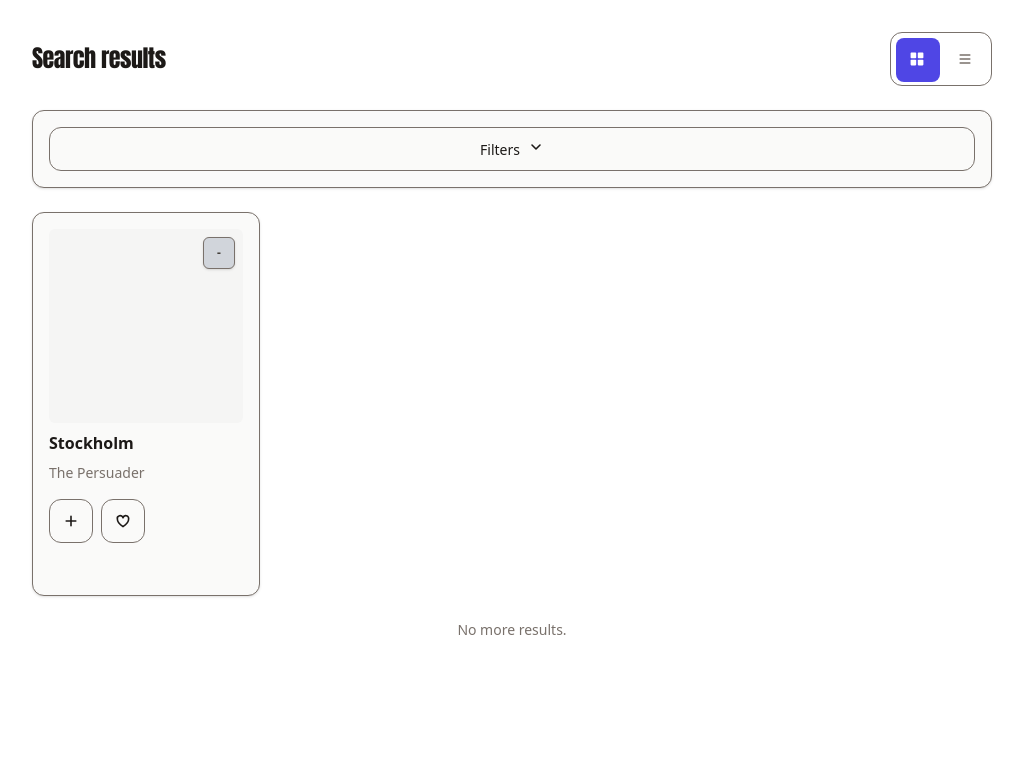
Test case: SearchResultsPage › add to wishlist (feature 060, US2) › surfaces an "already in your library" note when the added want is already owned (FR-007a)
Expected: the text "Stockholm" is shown, [49, 432, 134, 454]
Click the button named "add to wishlist" at (123, 521), box [101, 499, 145, 543]
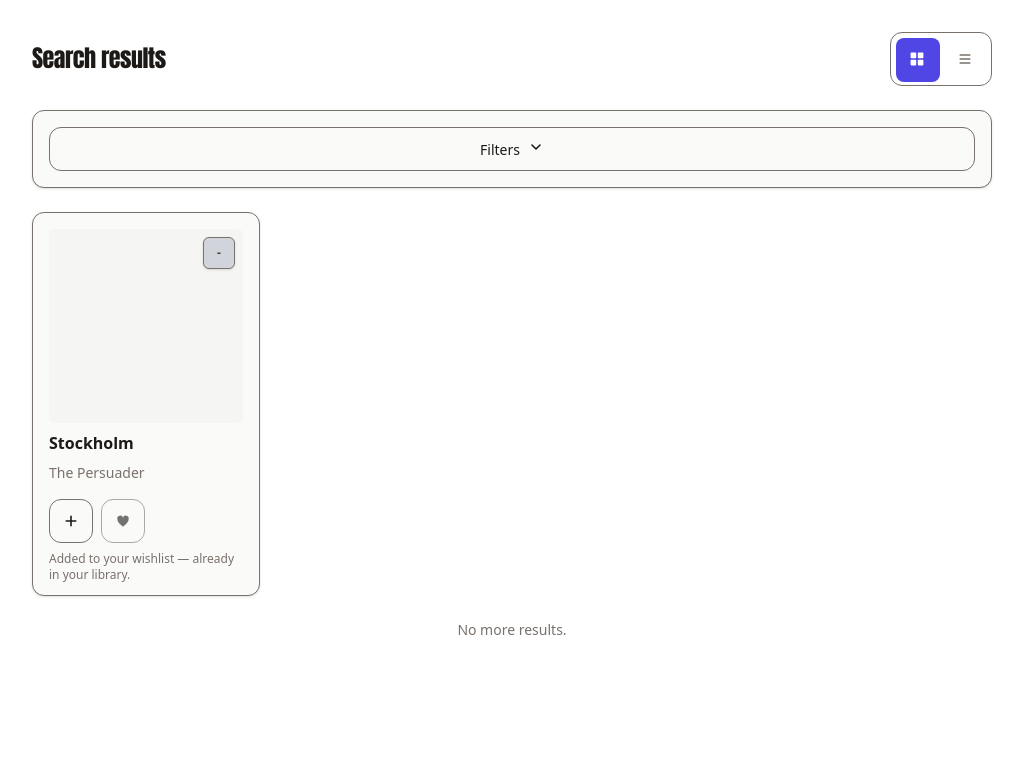
Result: the text "Added to your wishlist — already in your library." is shown at [49, 551, 243, 583]
